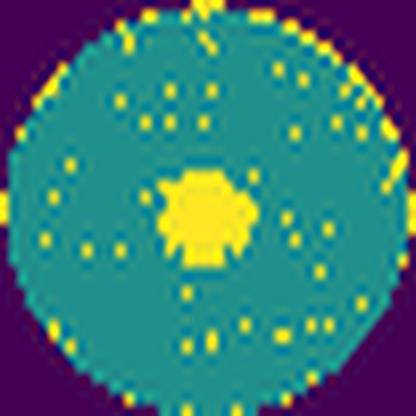Center: (157, 168, 260, 270)
